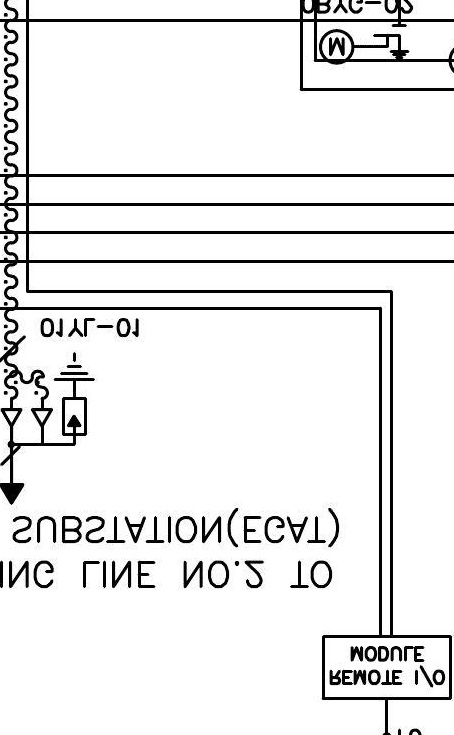115_gs_w_motor: (318, 24, 411, 66)
115_la: (53, 351, 96, 436)
remote_io_module: (321, 635, 452, 700)
